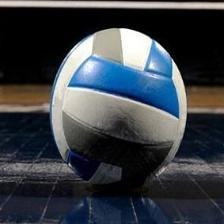Sports-Ball: (52, 25, 188, 196)
